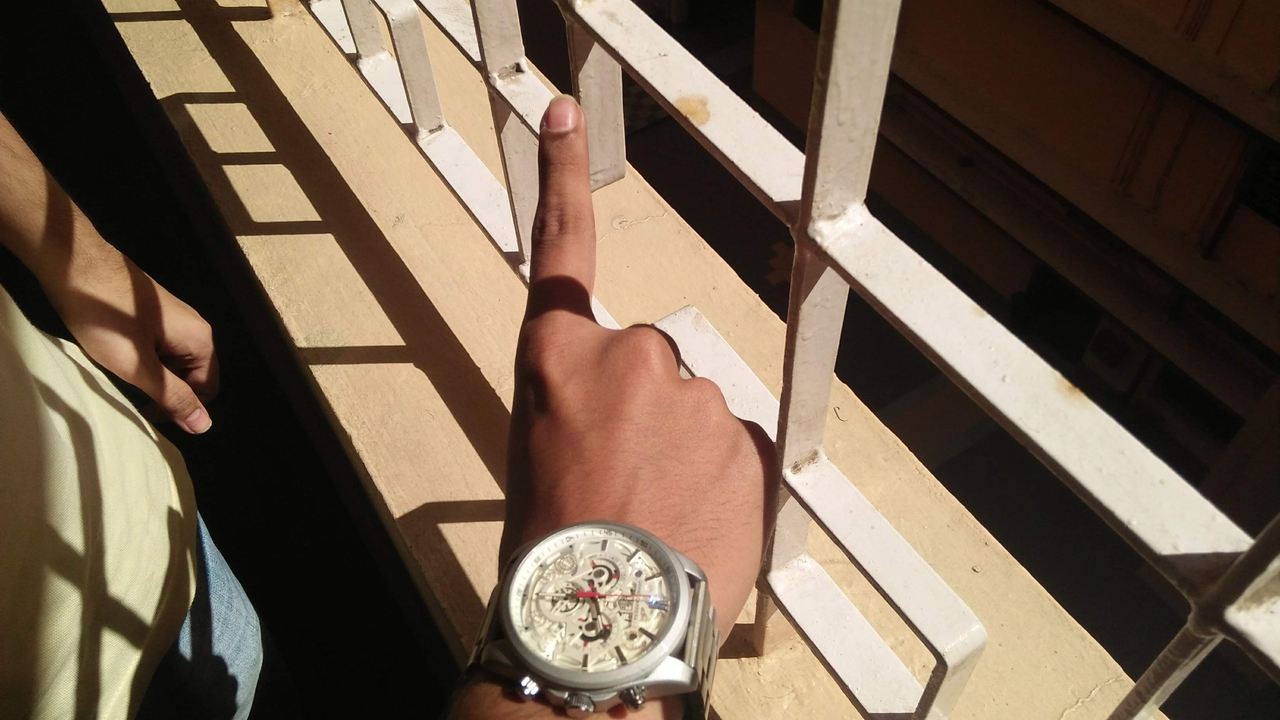fingertip: (534, 84, 590, 146)
